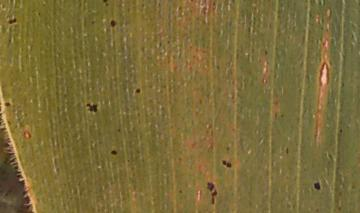tarspot: (85, 101, 98, 113), (220, 158, 232, 168), (210, 188, 217, 205), (205, 180, 215, 191), (312, 181, 321, 192), (8, 16, 17, 25), (109, 18, 117, 28), (109, 148, 118, 156), (2, 101, 12, 108), (283, 145, 290, 155), (133, 87, 141, 94), (278, 111, 285, 119), (115, 126, 122, 133), (263, 48, 269, 56), (338, 126, 344, 134), (89, 19, 96, 25), (225, 145, 231, 152), (177, 187, 183, 194), (101, 1, 109, 6)
